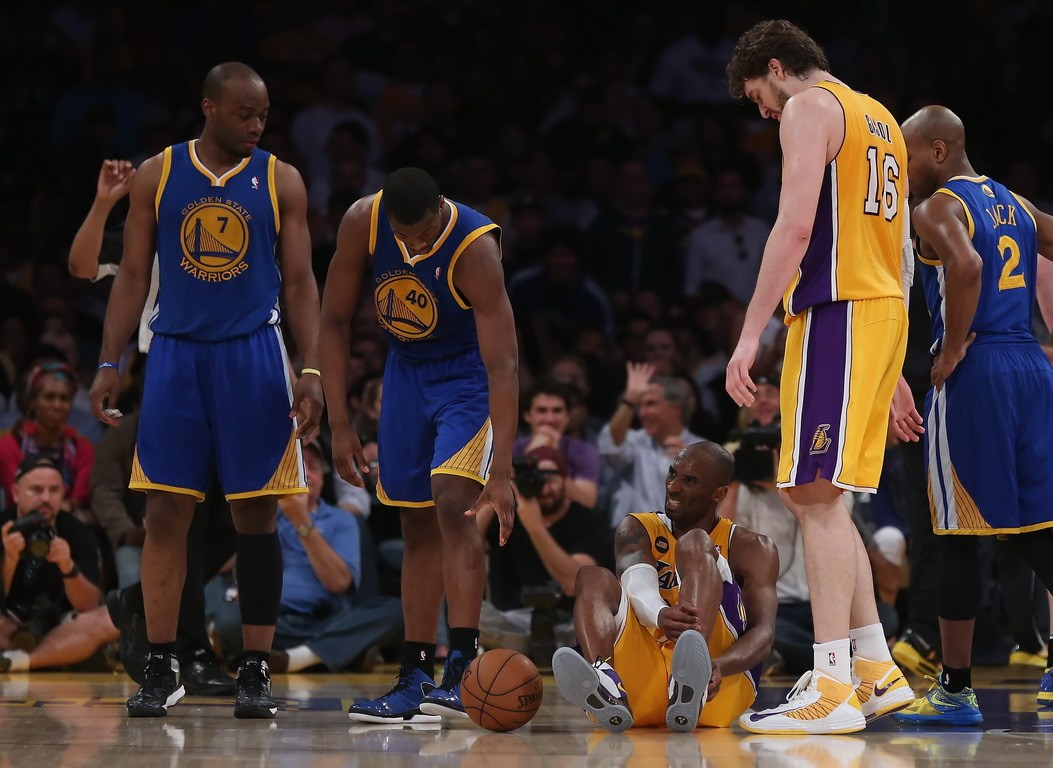10+: (2, 18, 1052, 720)
down: (543, 435, 795, 741)
